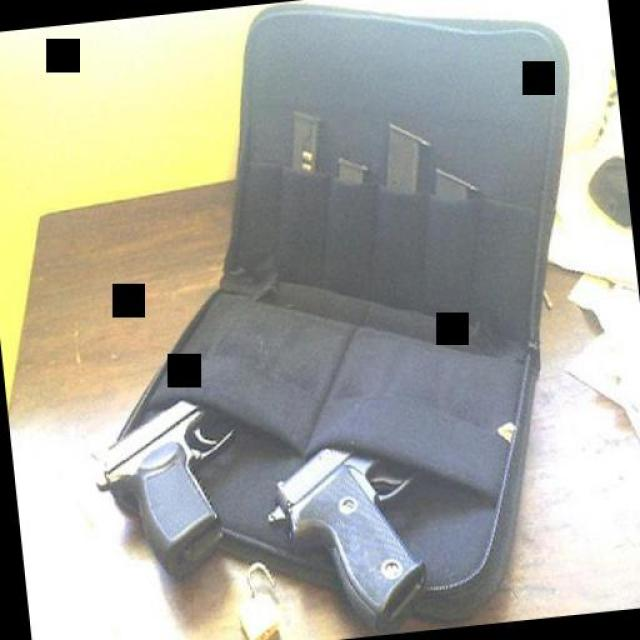gun: (255, 408, 440, 628), (86, 366, 254, 590)
